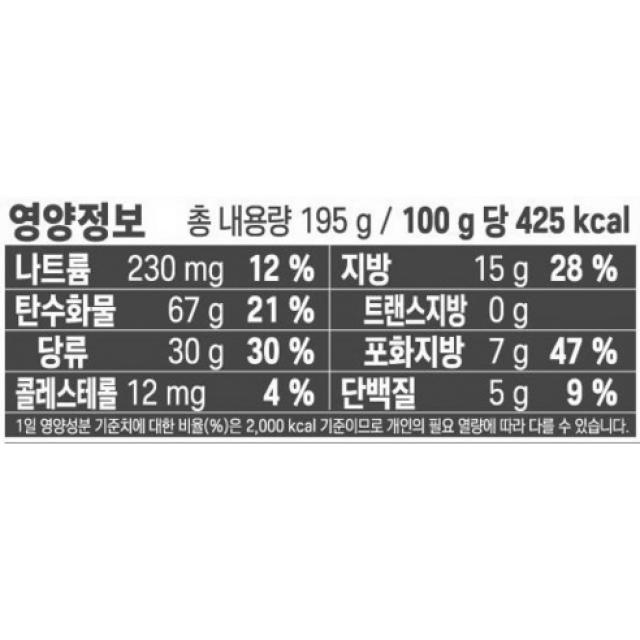Nutrition Label: (2, 194, 640, 459)
